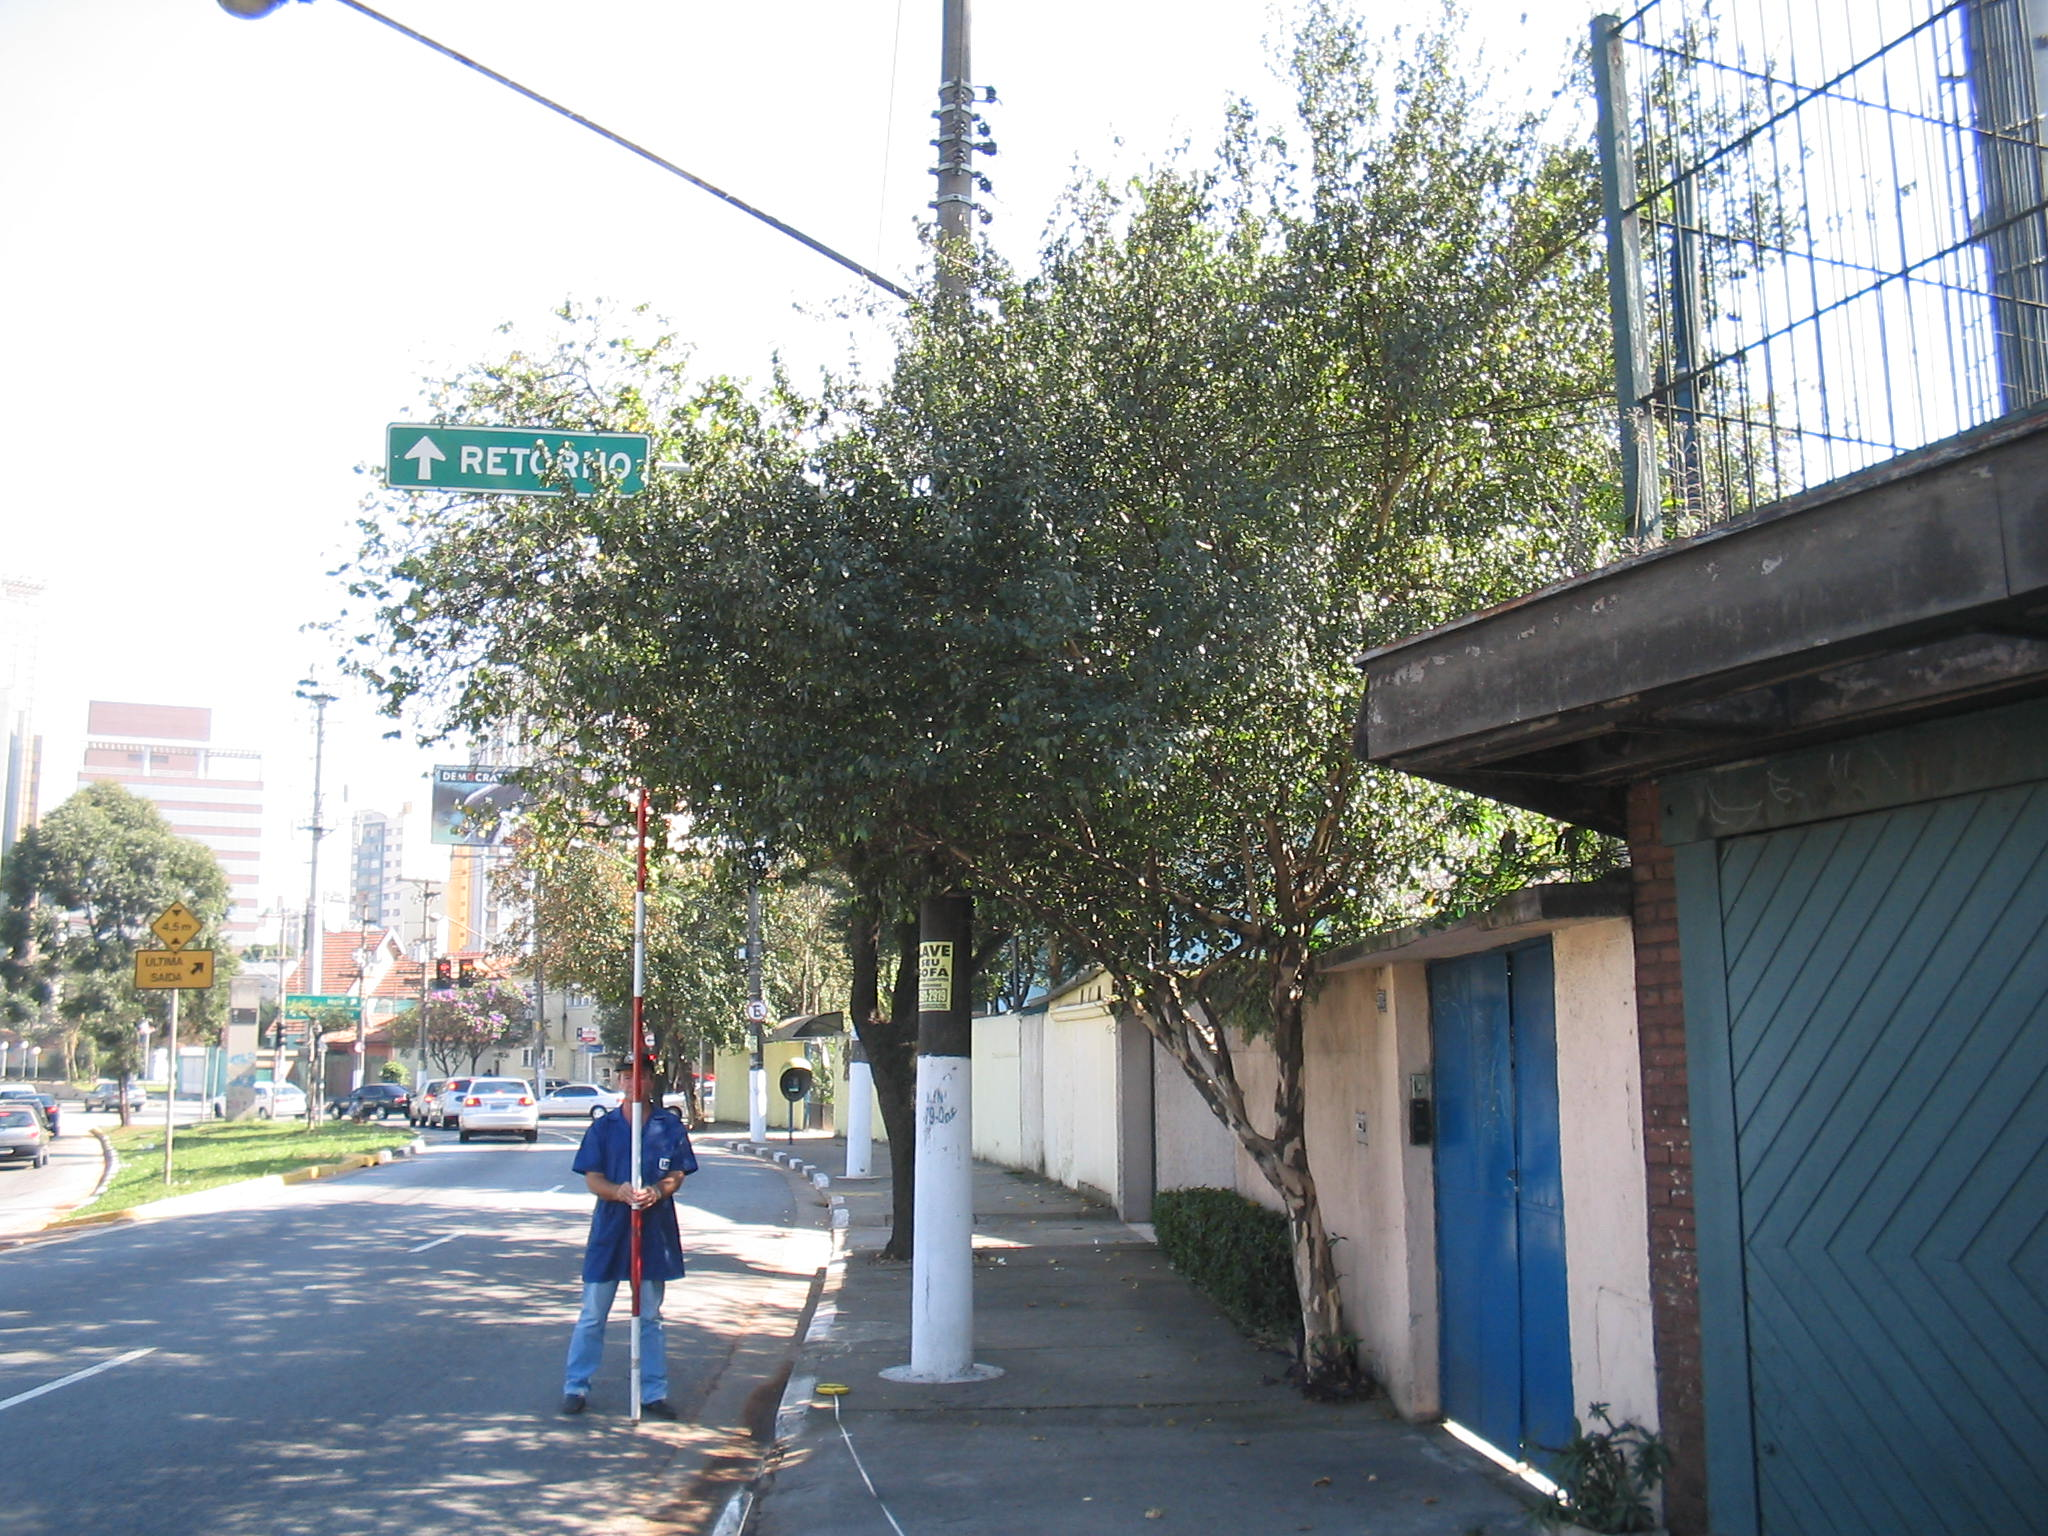crown: (314, 10, 1822, 1020)
stem: (1230, 1152, 1379, 1399)
stick: (613, 786, 658, 1433)
tree: (306, 5, 1825, 1405)
